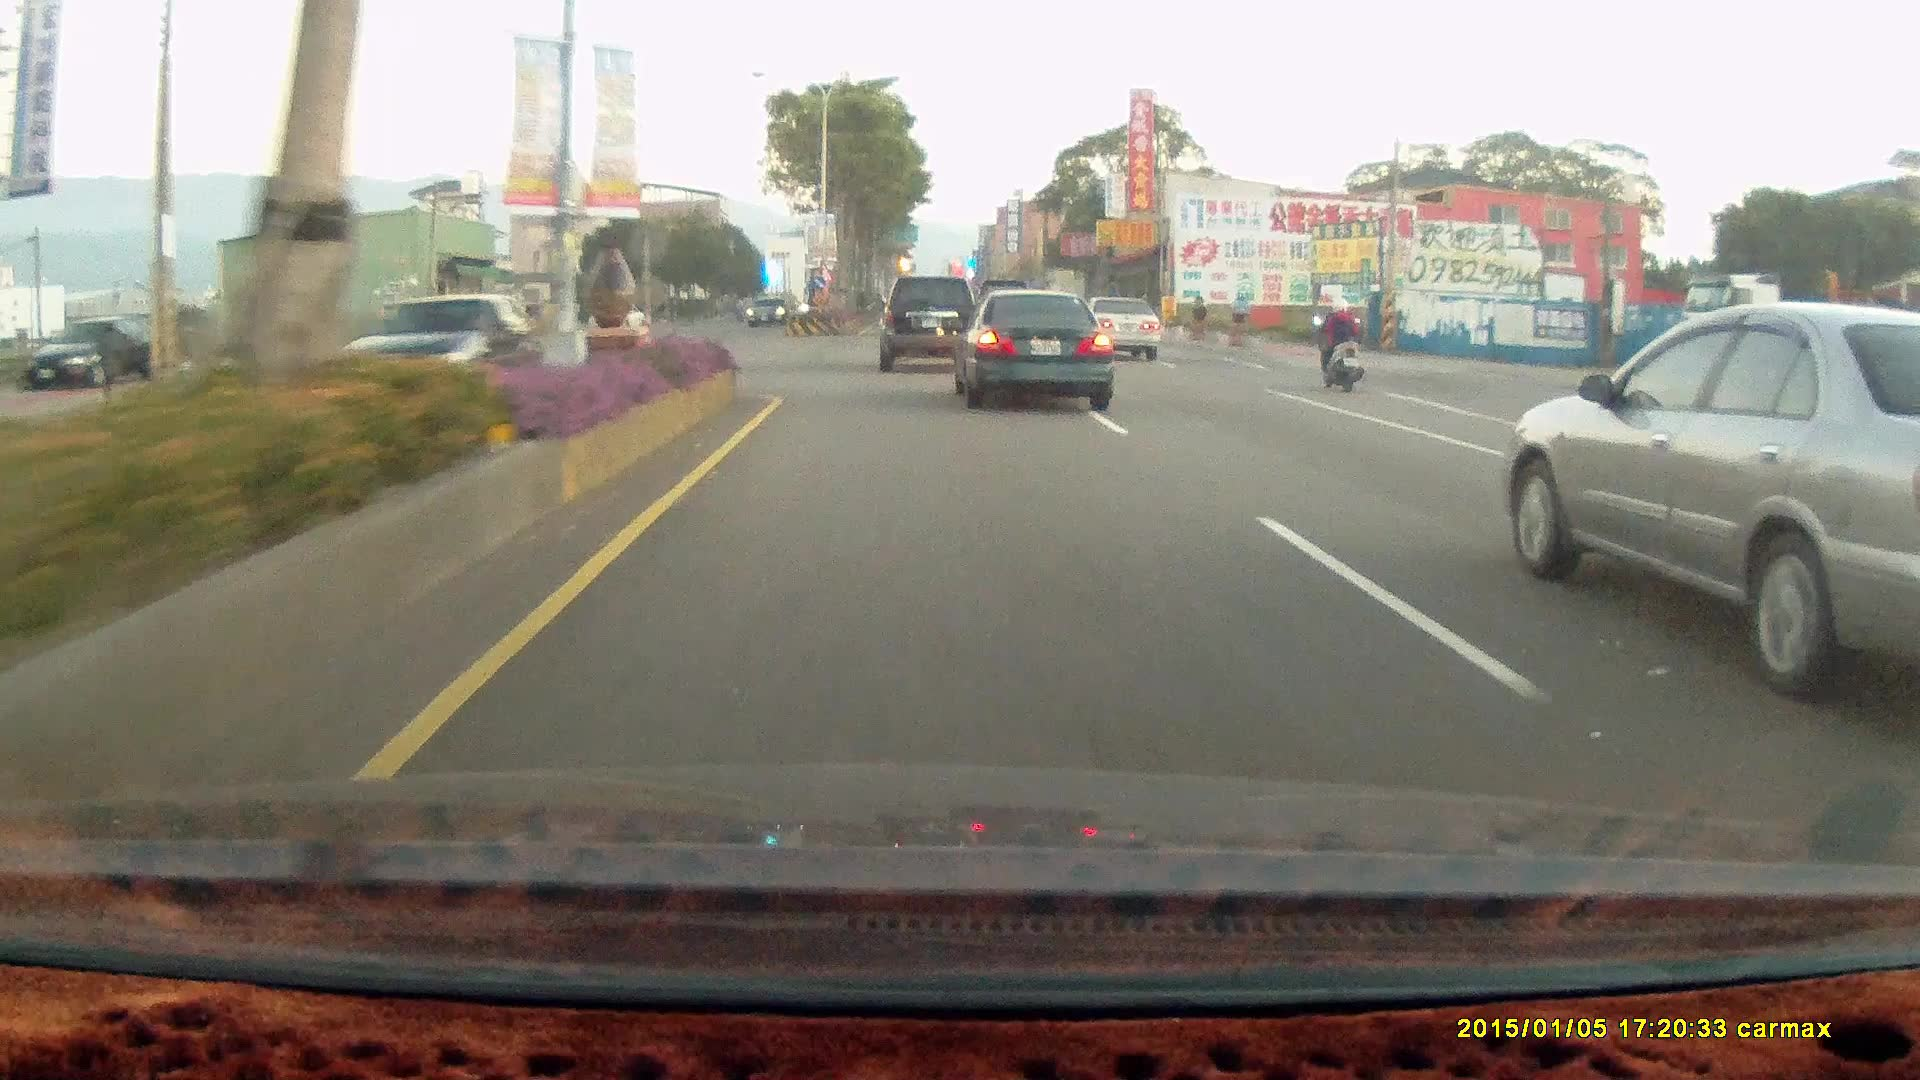pedestrian: (93, 319, 120, 395)
rider: (1305, 291, 1374, 398), (1308, 294, 1364, 391)
vehicle: (1508, 300, 1920, 699), (1673, 273, 1920, 385), (333, 291, 548, 403), (340, 296, 548, 402), (941, 291, 1105, 411), (959, 295, 1121, 416), (880, 274, 985, 374), (23, 315, 152, 392), (877, 275, 977, 372), (1078, 296, 1164, 363), (1078, 295, 1163, 362), (745, 297, 792, 331), (744, 295, 788, 326)
